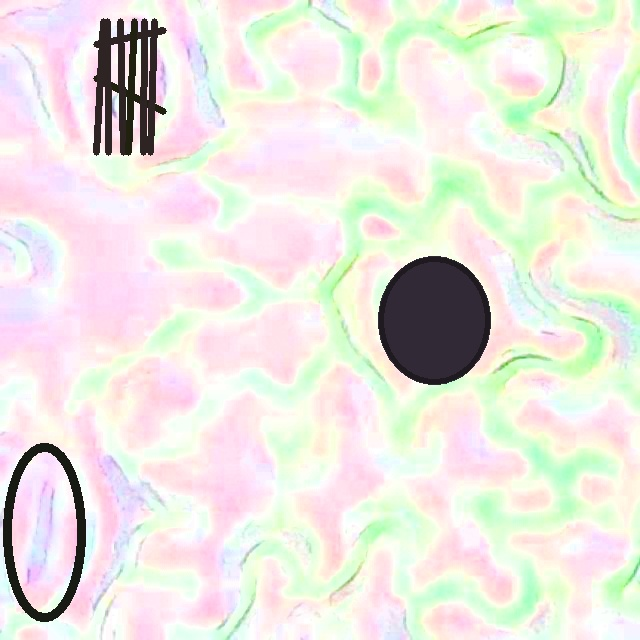close: (93, 18, 166, 155)
open: (3, 443, 86, 622), (378, 255, 491, 384)
